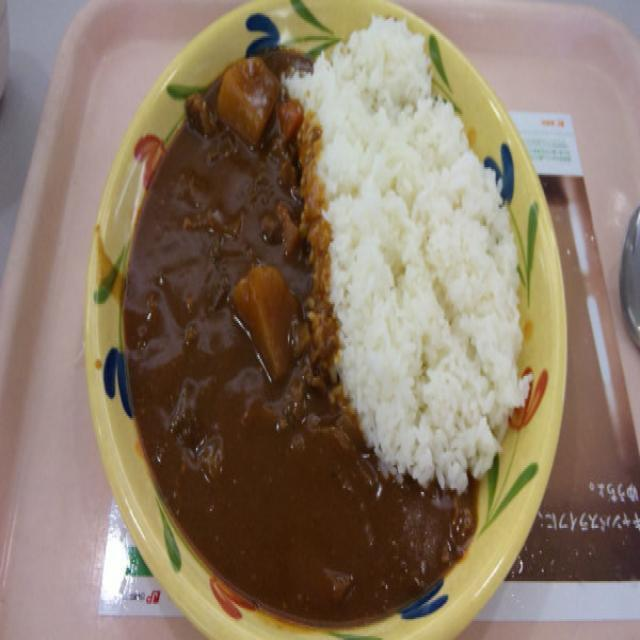Beef Curry: (141, 0, 352, 611)
Rice: (312, 4, 532, 466)
